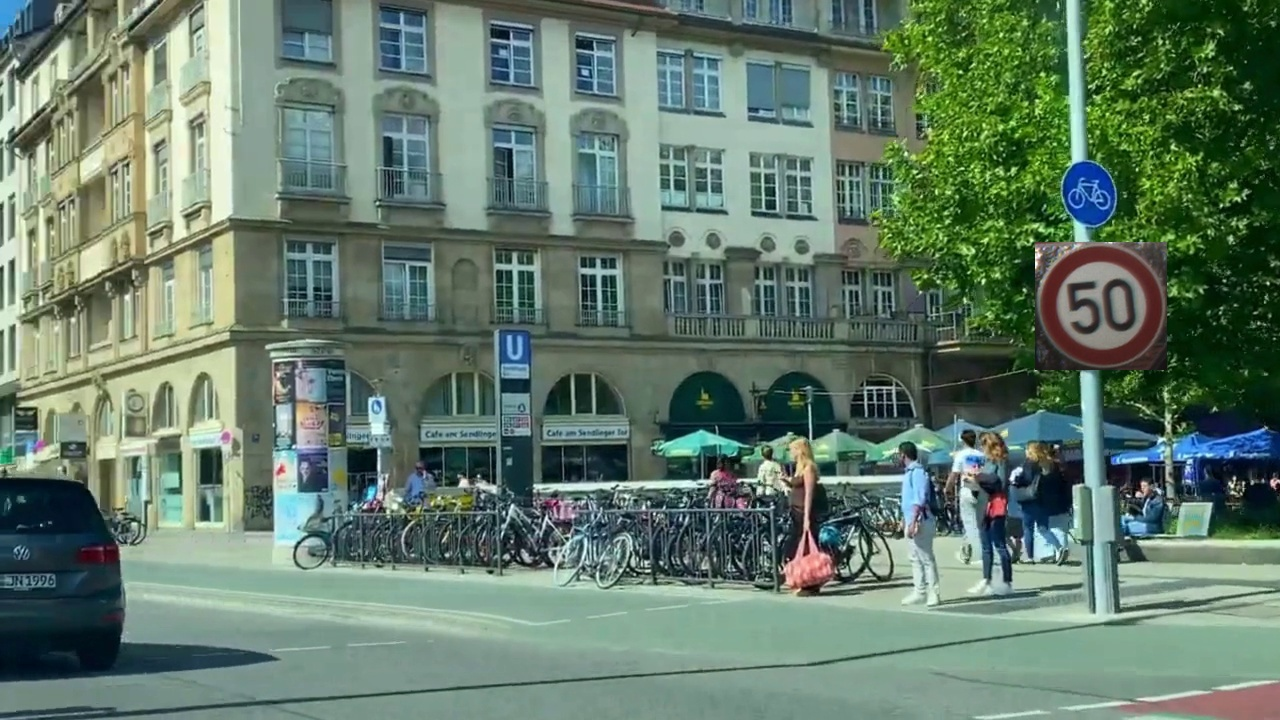Speed 50: (1035, 242, 1167, 370)
